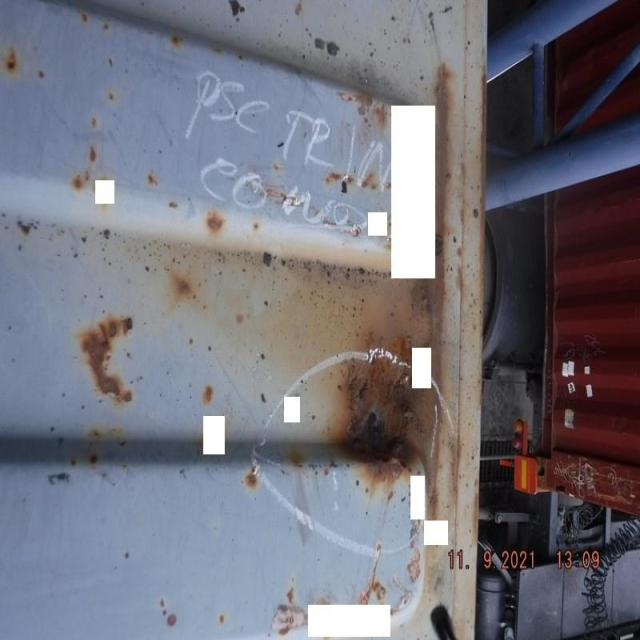rust: (348, 360, 414, 485), (85, 306, 136, 410)
